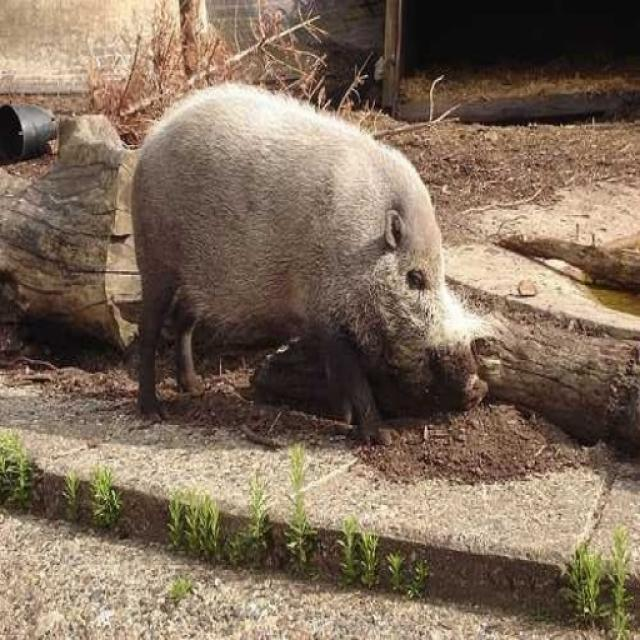pig: (118, 63, 482, 463)
